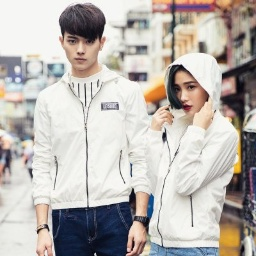face: (54, 1, 112, 74), (163, 61, 209, 119)
